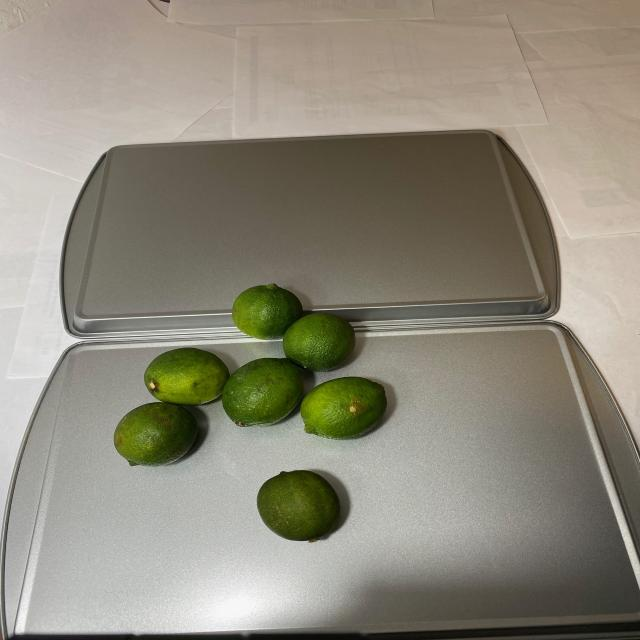lemon: (110, 282, 392, 545)
